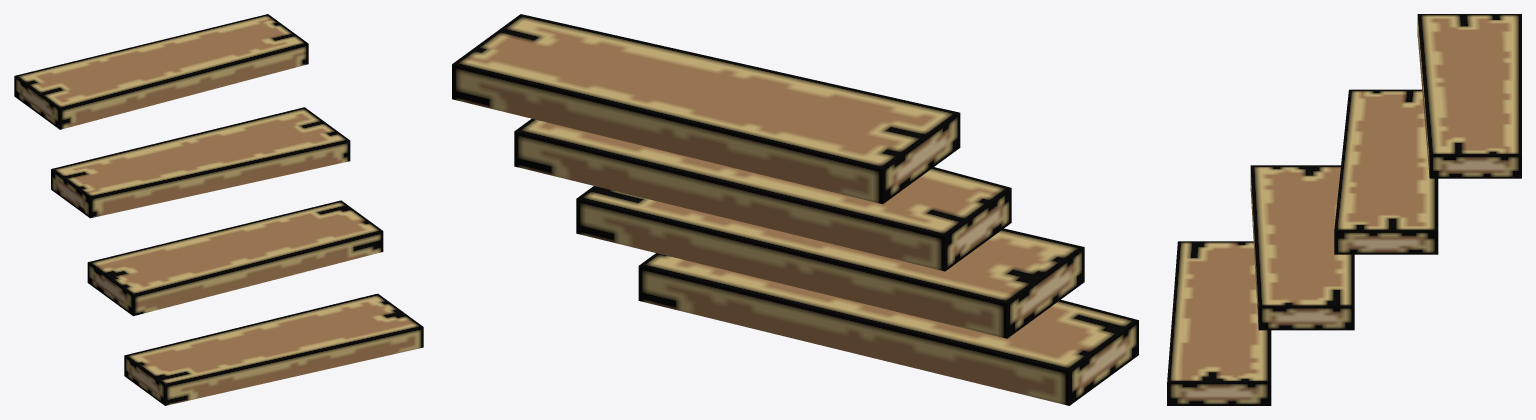
The model's file is deco_cathedral_stairsOverlayWood.FBX.
The picture shows the model from 3 angles, left to right: view 1: azimuth 30°, elevation 25°; view 2: azimuth 150°, elevation 25°; view 3: azimuth 270°, elevation 25°; orthographic projection. The views are drawn at different scales.
Parts seen in each view (by area): view 1: deco_cathedral_stairsOverlayWood; view 2: deco_cathedral_stairsOverlayWood; view 3: deco_cathedral_stairsOverlayWood.
Boxes of the visible parts, bbox=[...] form: deco_cathedral_stairsOverlayWood: bbox=[14, 14, 423, 405]; deco_cathedral_stairsOverlayWood: bbox=[452, 14, 1138, 405]; deco_cathedral_stairsOverlayWood: bbox=[1167, 14, 1521, 405].
Bounding box in the file's own units: 2 × 1.66 × 2.12.
Materials: 1 (1 with a texture image).
